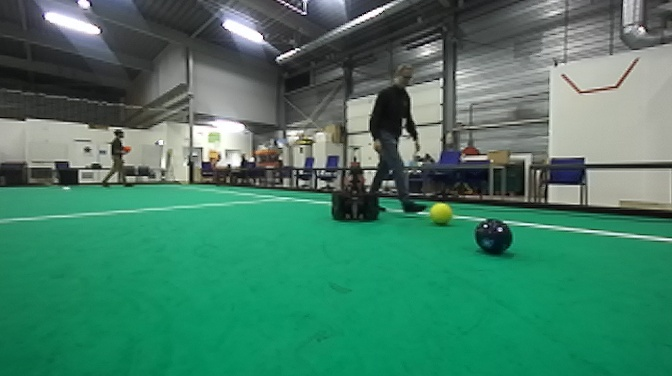ball: (473, 213, 514, 258), (428, 200, 456, 227)
human: (364, 58, 426, 217), (98, 128, 134, 190)
robot: (323, 138, 382, 225)
